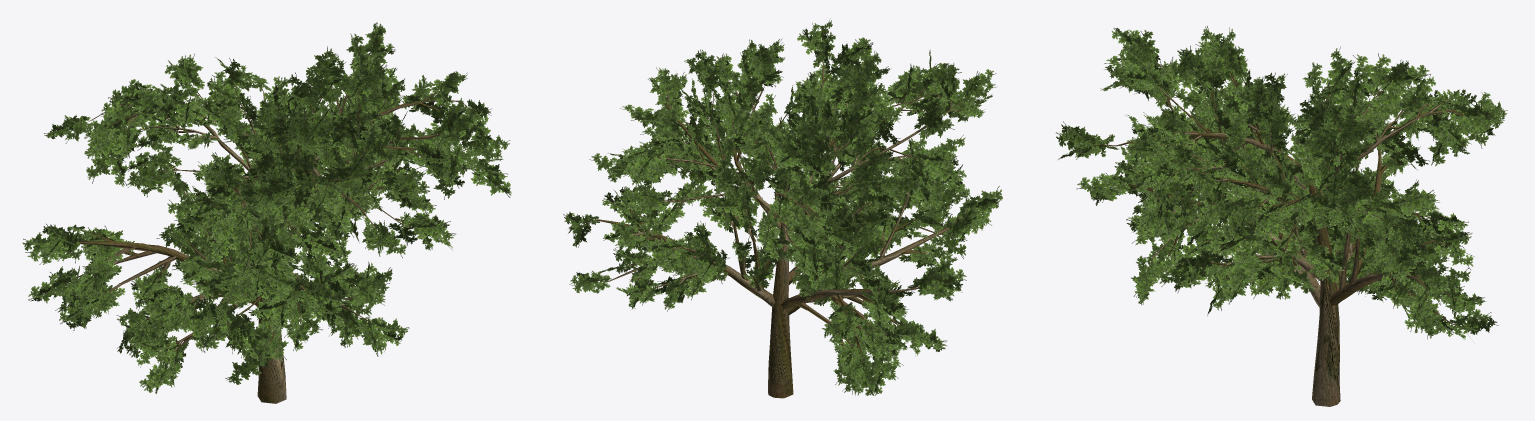
The picture shows the model from 3 angles, left to right: view 1: azimuth 30°, elevation 25°; view 2: azimuth 150°, elevation 25°; view 3: azimuth 270°, elevation 25°; orthographic projection. The views are drawn at different scales.
Parts seen in each view (by area): view 1: branches, branches.001; view 2: branches, branches.001; view 3: branches, branches.001.
Part boxes in pixels (x1,y1,x2,y2): branches: [22, 22, 511, 393]; branches.001: [64, 52, 474, 403]; branches: [563, 18, 1002, 395]; branches.001: [581, 44, 972, 398]; branches: [1056, 26, 1507, 339]; branches.001: [1093, 59, 1484, 406].
Bounding box in the file's own units: 31.36 × 25.75 × 30.01.
Materials: 2 (2 with a texture image).
